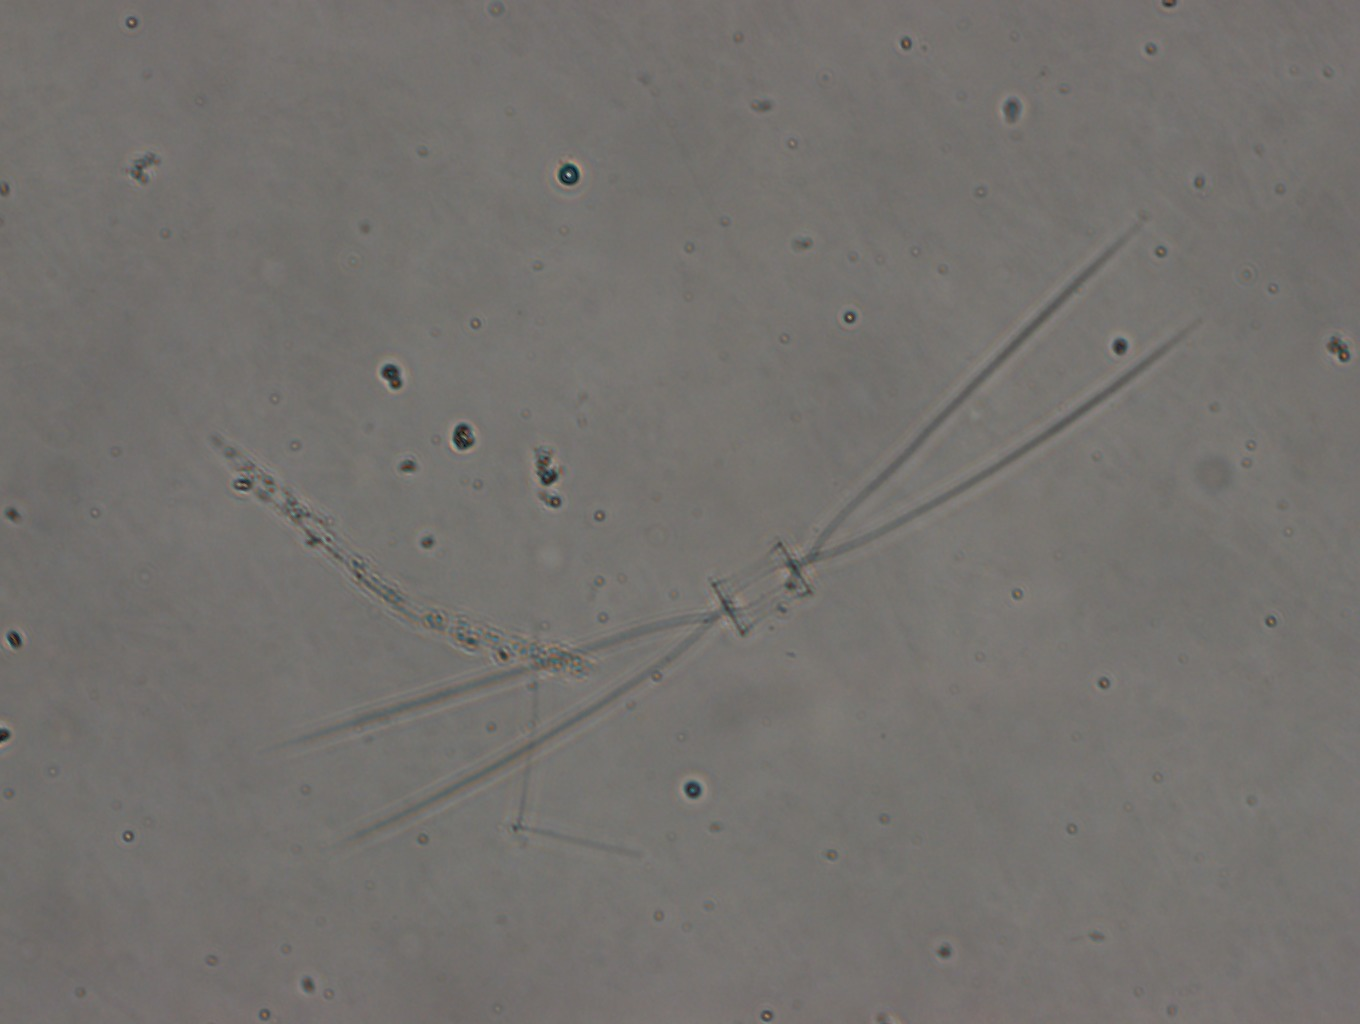chaetoceros: (277, 219, 1203, 869)
